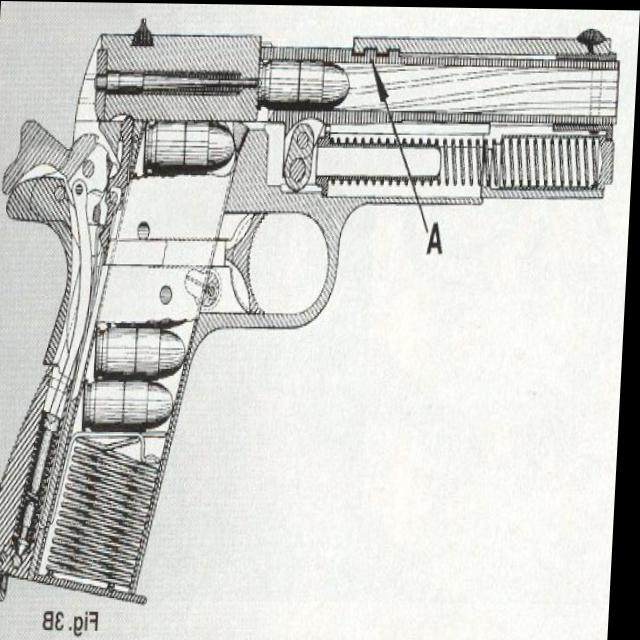handgun: (0, 14, 622, 609)
